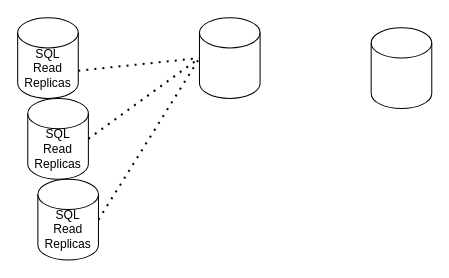
Some shapes in this 449 by 278 pixel diagram are drawn without their labels. The box of each missing label's shape, as (x1, y1, x2, y2) in pixels:
Object Store: (370, 27, 432, 109)
SQL Write Master: (198, 17, 260, 98)
